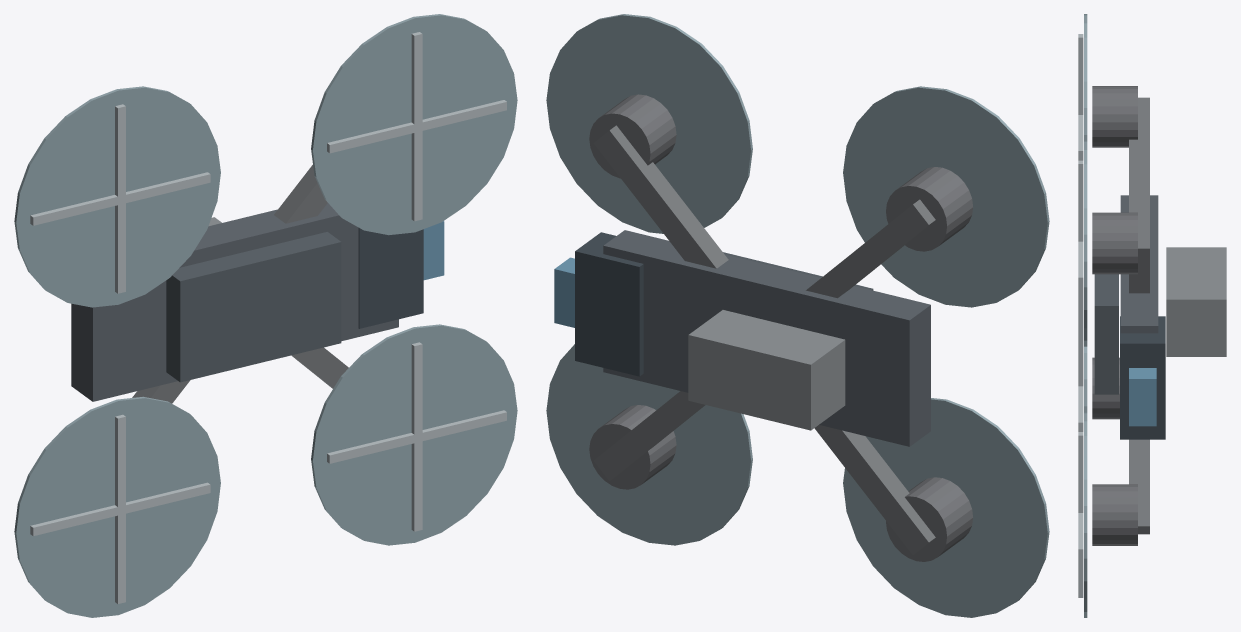
File: quad.glb
3 views of the same model, side by side, from view 1: azimuth 30°, elevation 25°; view 2: azimuth 150°, elevation 25°; view 3: azimuth 270°, elevation 25° (orthographic). The views are drawn at different scales.
Parts seen in each view (by area): view 1: quad_19, quad_14, quad_4, quad_9, quad_1, quad_0, quad_22, quad_21, quad_16, quad_10, quad_15, quad_20 (+7 smaller); view 2: quad_0, quad_9, quad_19, quad_4, quad_14, quad_24, quad_22, quad_17, quad_2, quad_8, quad_3, quad_18 (+4 smaller); view 3: quad_24, quad_22, quad_1, quad_18, quad_13, quad_0, quad_8, quad_7, quad_23, quad_12, quad_17, quad_3 (+12 smaller).
Boxes of the visible parts, bbox=[...] form: quad_19: bbox=[311, 14, 517, 235]; quad_14: bbox=[311, 324, 517, 545]; quad_4: bbox=[14, 396, 220, 617]; quad_9: bbox=[14, 86, 220, 307]; quad_1: bbox=[166, 232, 341, 382]; quad_0: bbox=[71, 203, 398, 401]; quad_22: bbox=[358, 228, 423, 328]; quad_21: bbox=[411, 32, 422, 221]; quad_16: bbox=[411, 342, 422, 531]; quad_10: bbox=[30, 172, 210, 225]; quad_15: bbox=[327, 410, 506, 463]; quad_20: bbox=[327, 100, 506, 153]; quad_0: bbox=[603, 230, 930, 446]; quad_9: bbox=[843, 86, 1049, 307]; quad_19: bbox=[546, 14, 752, 233]; quad_4: bbox=[843, 398, 1049, 617]; quad_14: bbox=[546, 344, 752, 545]; quad_24: bbox=[688, 310, 845, 430]; quad_22: bbox=[575, 232, 643, 376]; quad_17: bbox=[593, 125, 728, 268]; quad_2: bbox=[814, 425, 935, 554]; quad_8: bbox=[886, 167, 972, 251]; quad_3: bbox=[886, 477, 973, 561]; quad_18: bbox=[589, 94, 676, 178]; quad_24: bbox=[1166, 247, 1226, 356]; quad_22: bbox=[1120, 316, 1165, 439]; quad_1: bbox=[1094, 274, 1118, 394]; quad_18: bbox=[1092, 212, 1137, 274]; quad_13: bbox=[1092, 484, 1137, 545]; quad_0: bbox=[1120, 195, 1158, 333]; quad_8: bbox=[1092, 86, 1137, 147]; quad_7: bbox=[1129, 97, 1149, 227]; quad_23: bbox=[1129, 368, 1156, 426]; quad_12: bbox=[1129, 439, 1149, 534]; quad_17: bbox=[1129, 227, 1149, 293]; quad_3: bbox=[1092, 357, 1119, 419].
Bounding box in the file's own units: 0.311 × 0.311 × 0.091.
